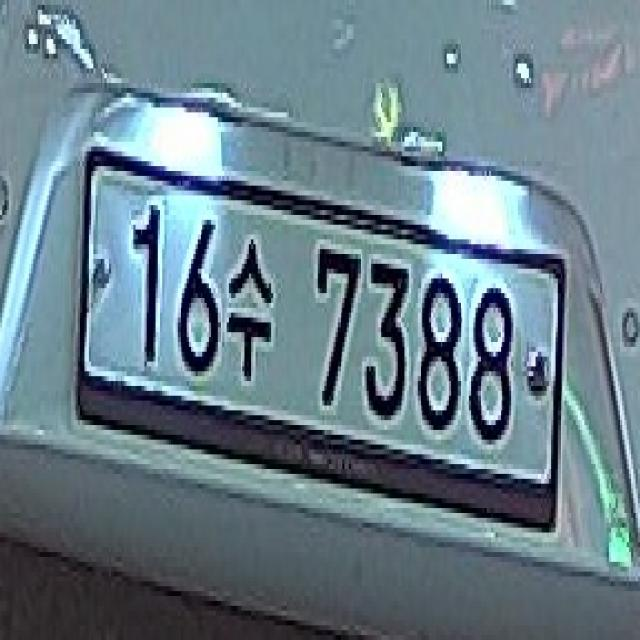1: (126, 195, 166, 386)
3: (365, 254, 411, 430)
6: (174, 200, 222, 391)
7: (311, 240, 362, 420)
8: (416, 268, 464, 440), (469, 284, 515, 450)
license_plate: (66, 137, 566, 552)
su: (222, 224, 276, 396)
